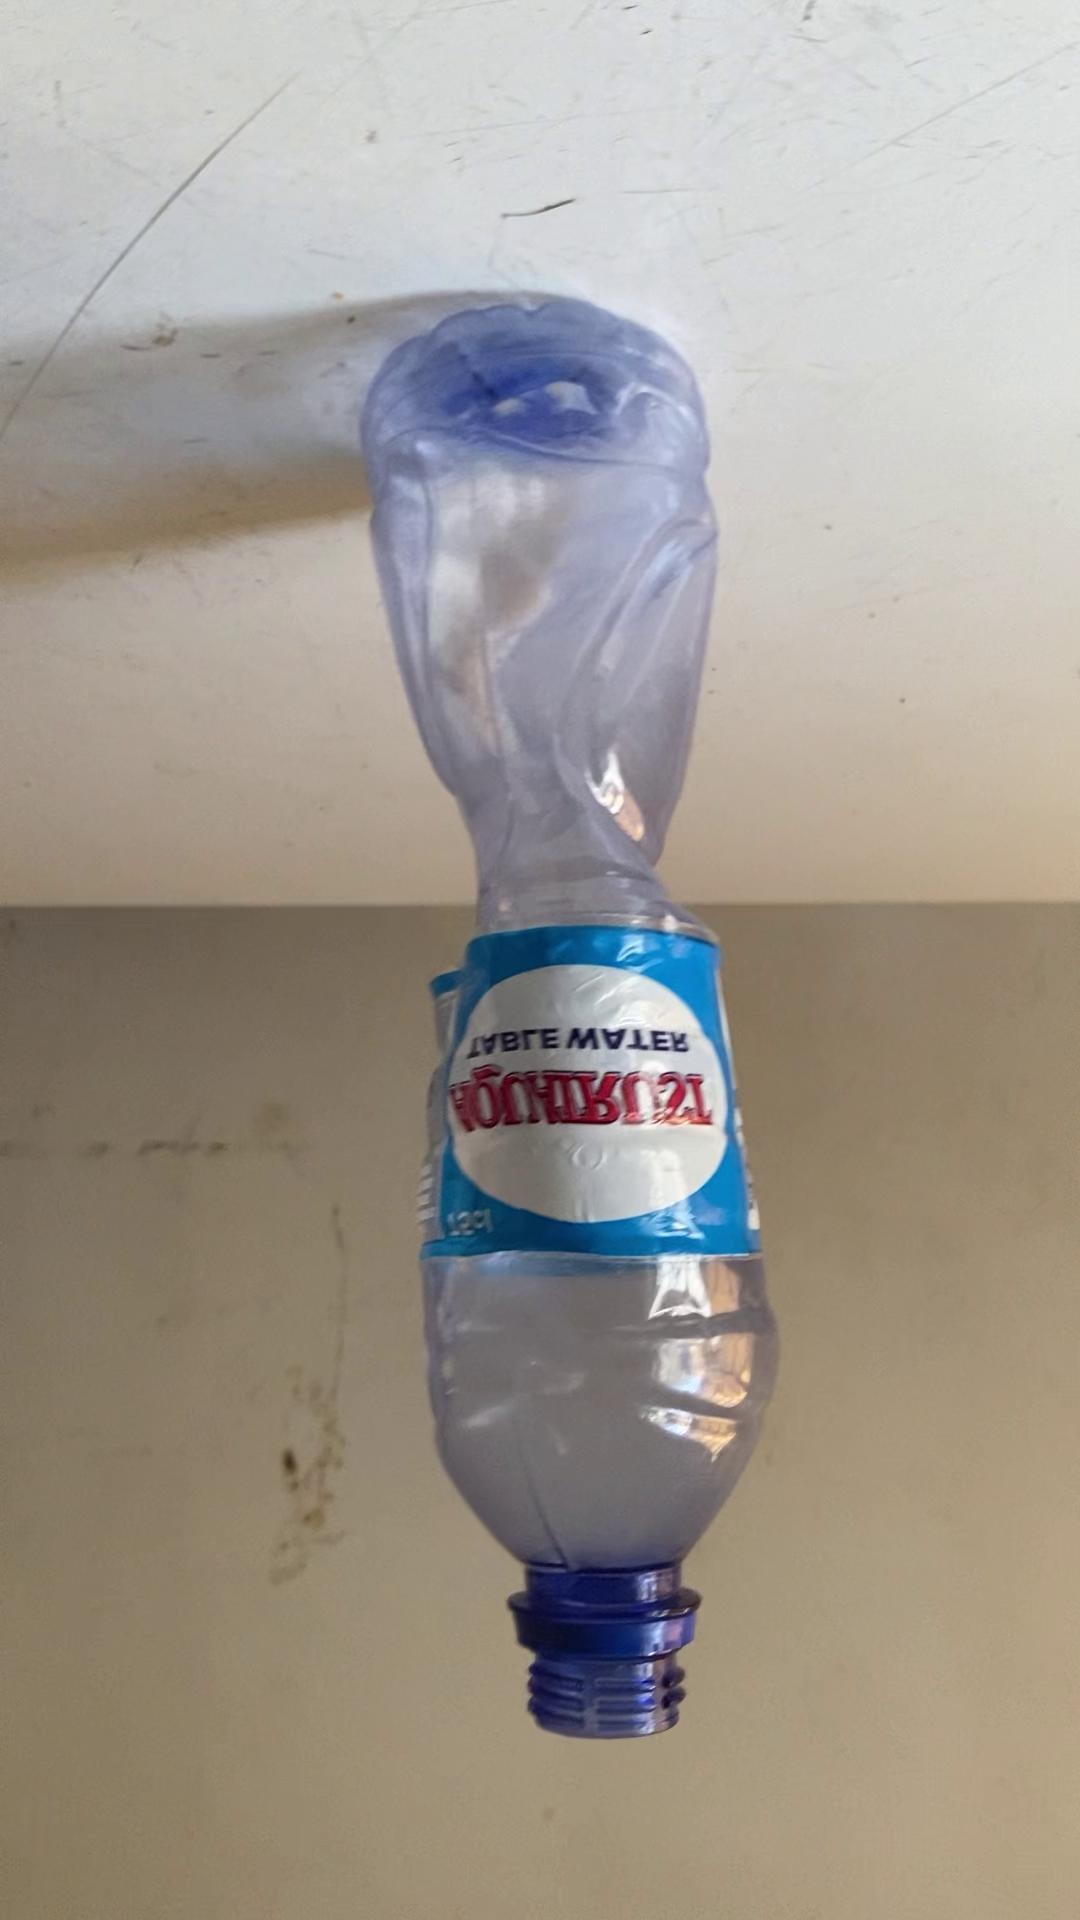crumbled: (353, 286, 775, 1749)
label: (421, 936, 738, 1266)
no-cap: (506, 1600, 699, 1743)
